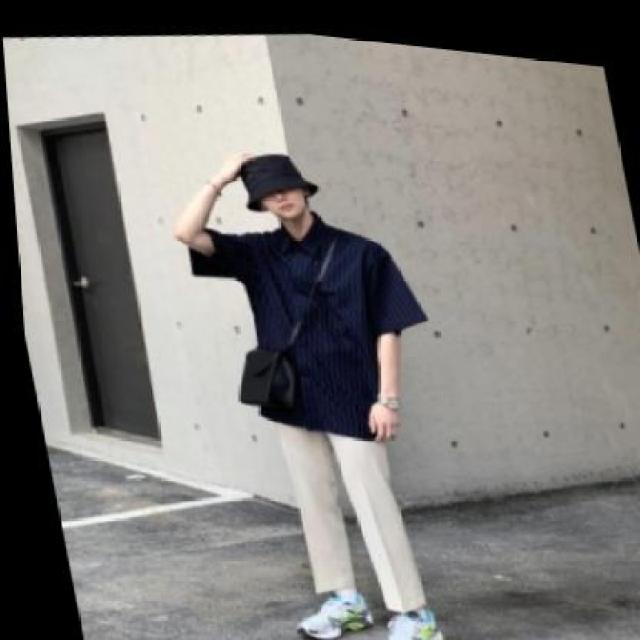hat: (224, 133, 322, 216)
